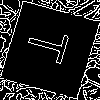T: (24, 25, 79, 68)
